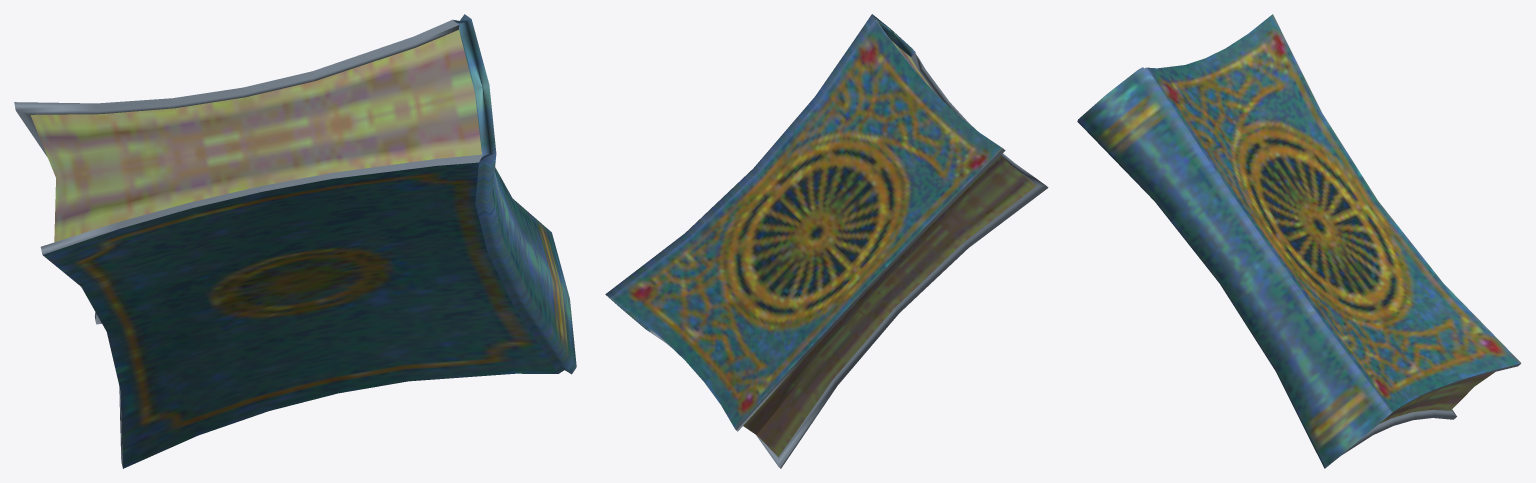
File: kizna.ico.obj
3 views of the same model, side by side, from view 1: azimuth 30°, elevation 25°; view 2: azimuth 150°, elevation 25°; view 3: azimuth 270°, elevation 25° (orthographic). The views are drawn at different scales.
Size of the model in its own units: 4.73 by 4.26 by 4.52.
Materials: 1 (1 with a texture image).
